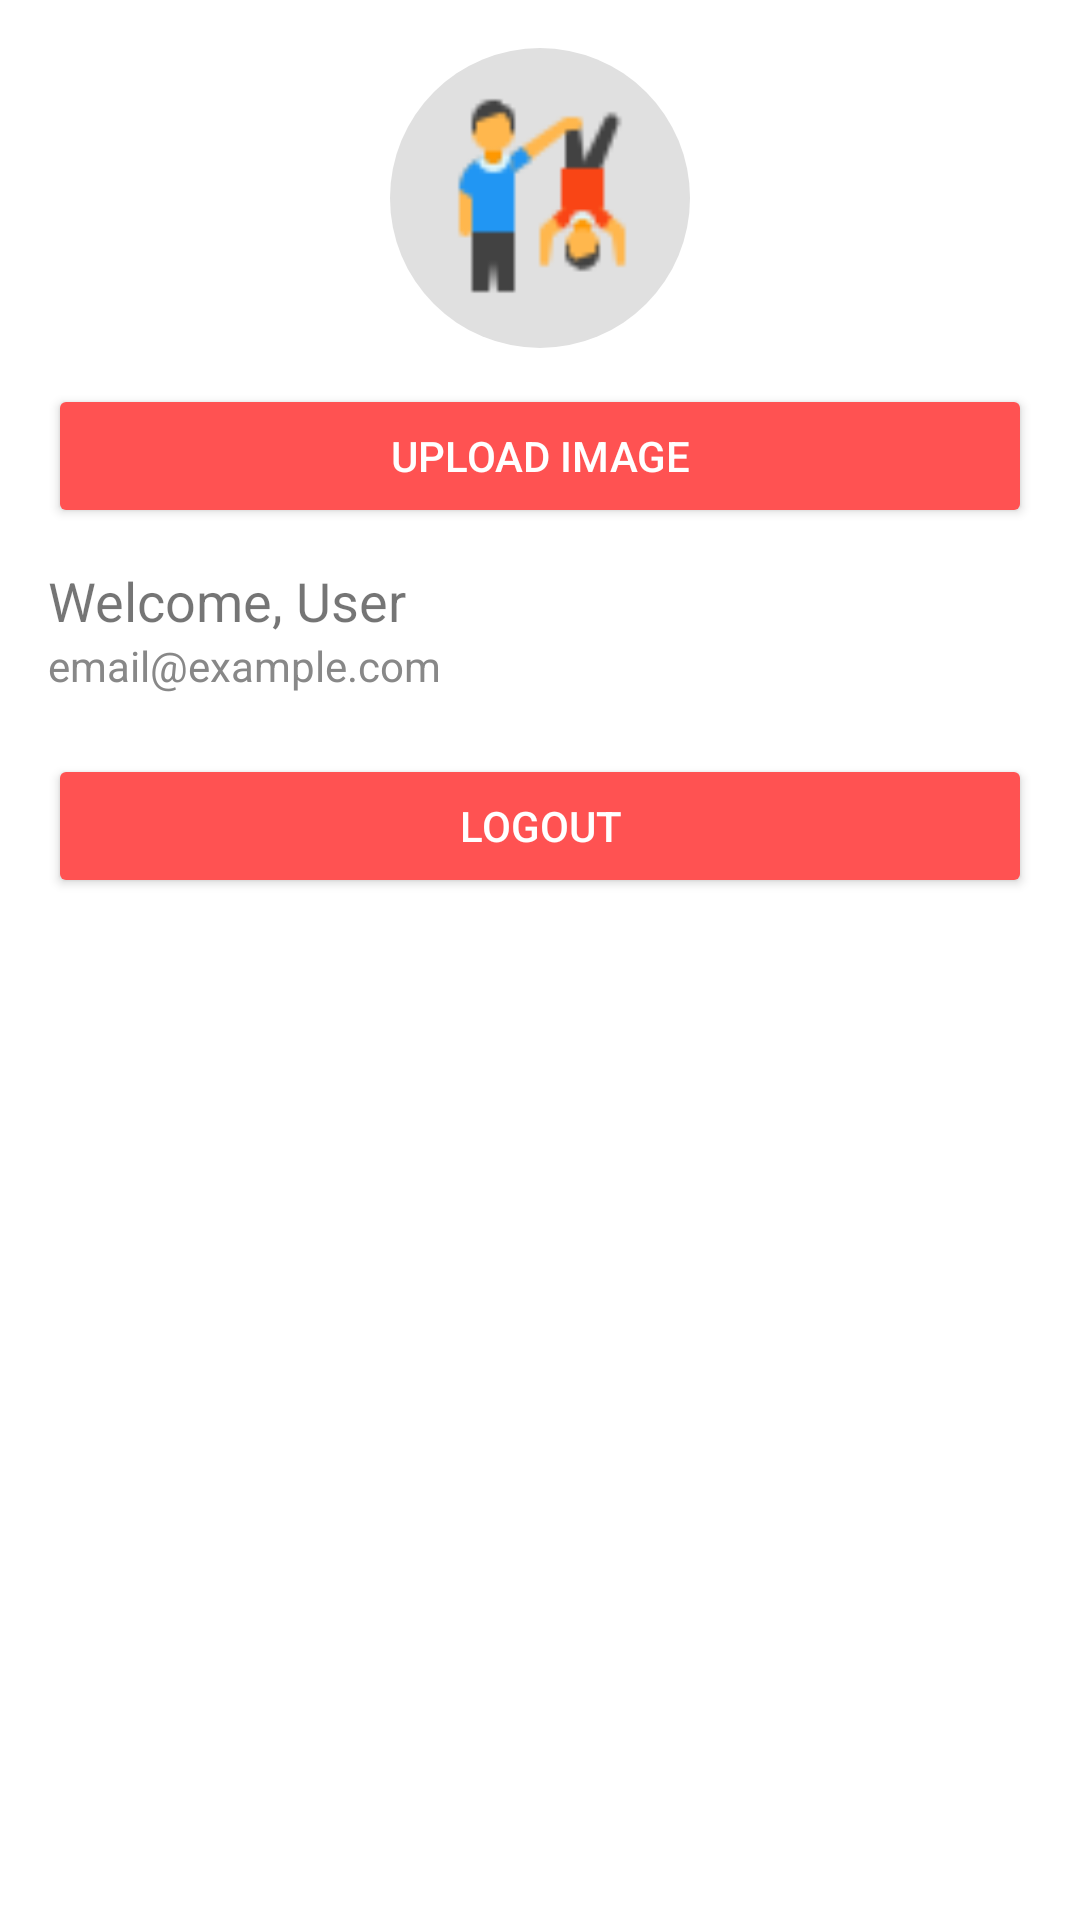

Icons on this 1080*1920 Android screen, each with the point to tap as (x,y):
Profile: (540,198)
